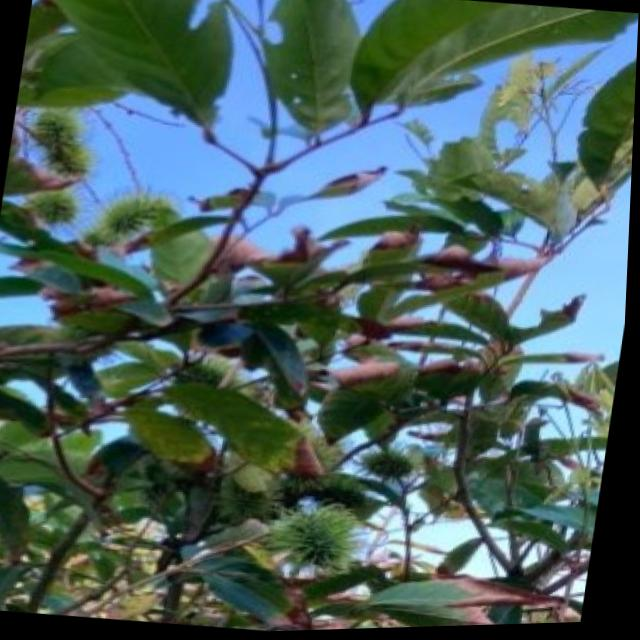Leaf Blight: (183, 420, 605, 635), (230, 161, 540, 433), (0, 204, 172, 431), (3, 22, 178, 220)
